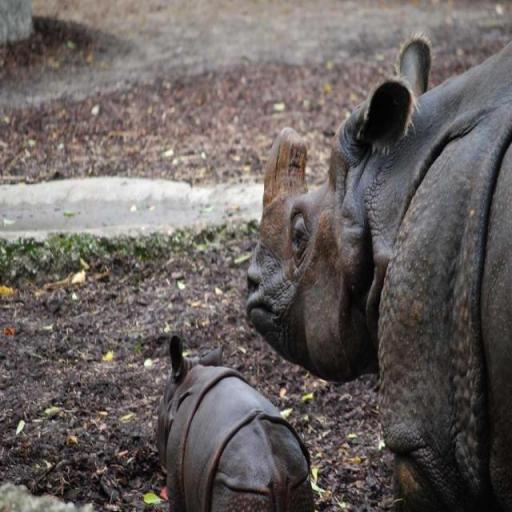Rhino: (245, 30, 512, 512), (155, 333, 315, 511)
